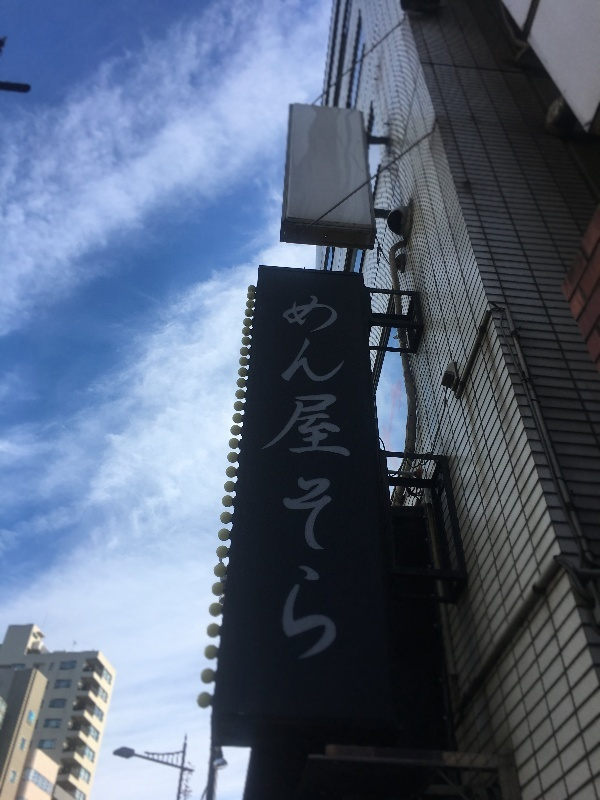text: (289, 295, 304, 660), (305, 295, 320, 660), (321, 295, 336, 660), (337, 295, 352, 660), (353, 295, 356, 660), (286, 295, 288, 660)
